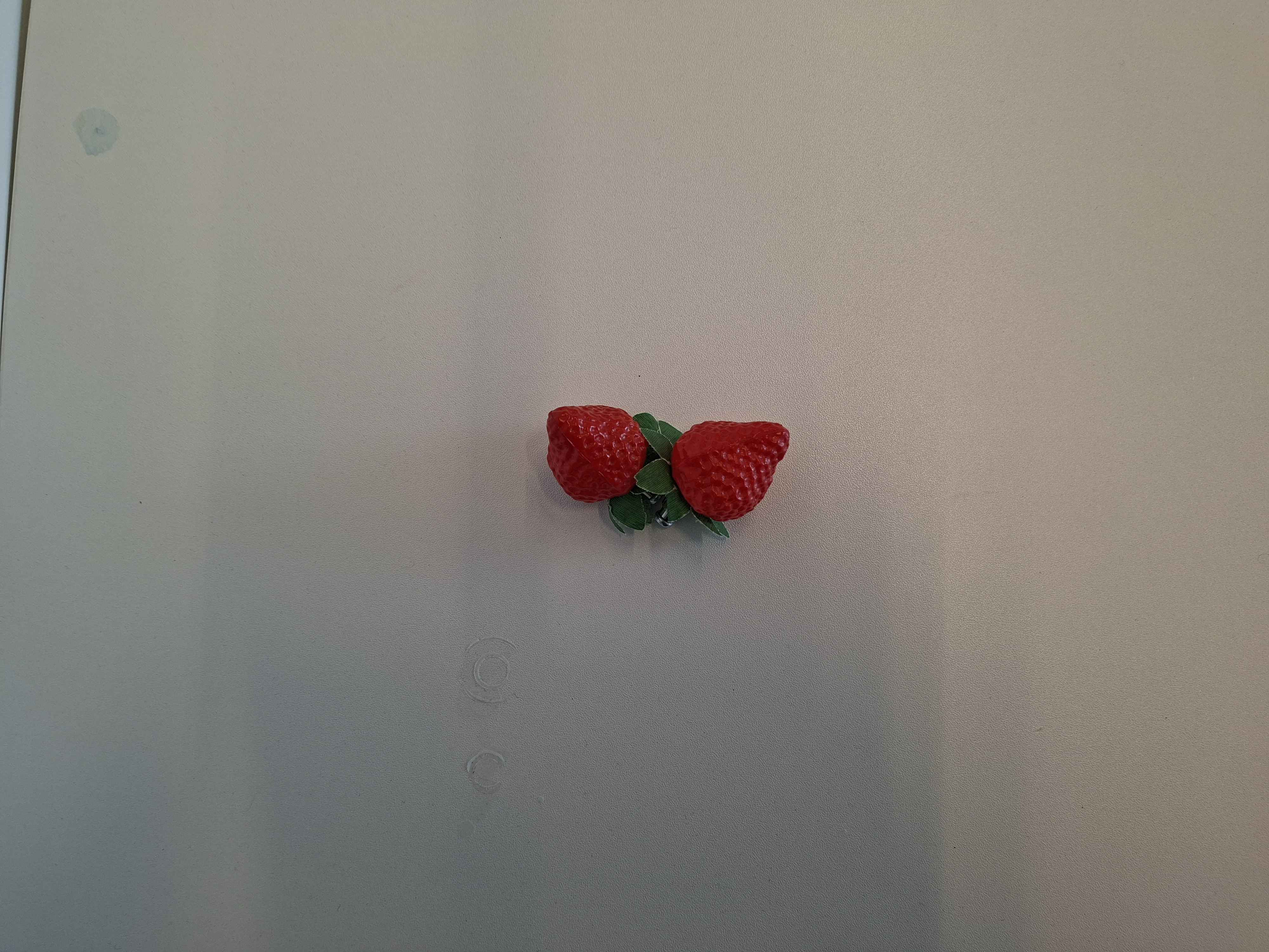Strawberry: (668, 407, 797, 523), (538, 392, 652, 512)
